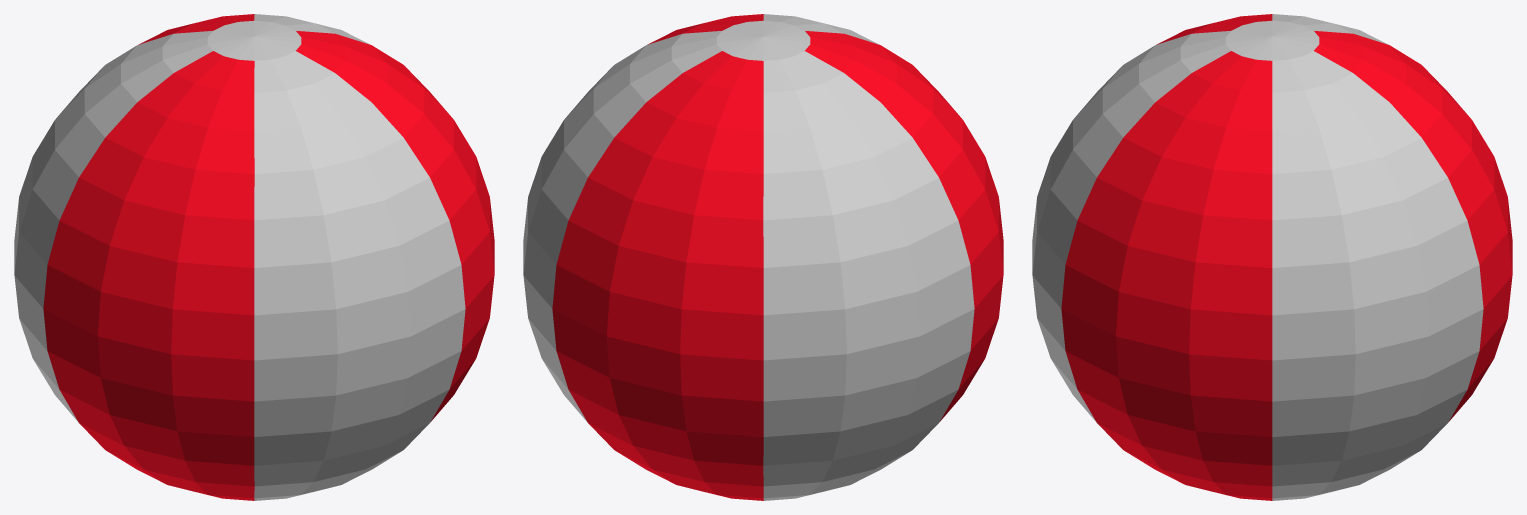
The model's file is ball_teamRed.obj.
3 views of the same model, side by side, from view 1: azimuth 30°, elevation 25°; view 2: azimuth 150°, elevation 25°; view 3: azimuth 270°, elevation 25° (orthographic).
Visible parts, largest first — view 1: ball_teamRed_Sphere.007; view 2: ball_teamRed_Sphere.007; view 3: ball_teamRed_Sphere.007.
Part boxes in pixels (box(x1,y1,x2,y2)): ball_teamRed_Sphere.007: box(14, 14, 494, 500); ball_teamRed_Sphere.007: box(523, 14, 1003, 500); ball_teamRed_Sphere.007: box(1032, 14, 1512, 500).
Size of the model in its own units: 2 by 2 by 1.97.
